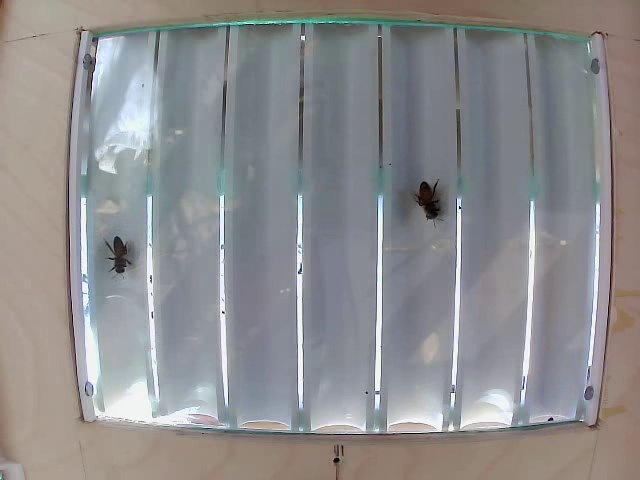bee: (404, 175, 448, 237), (95, 243, 142, 274)
